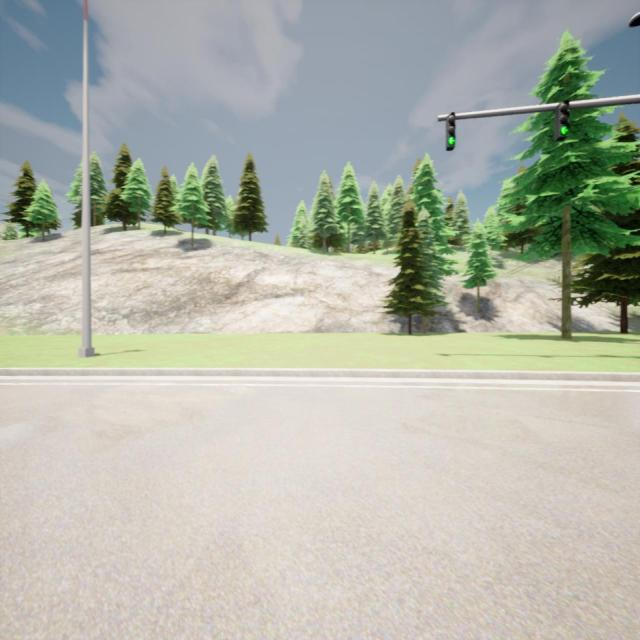traffic_light: (555, 100, 569, 141), (446, 112, 455, 151)
